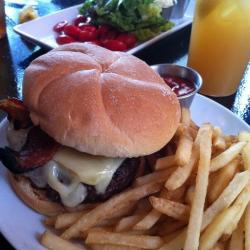burger: (3, 47, 182, 223)
fries: (73, 155, 250, 244)
salad: (82, 2, 173, 41)
